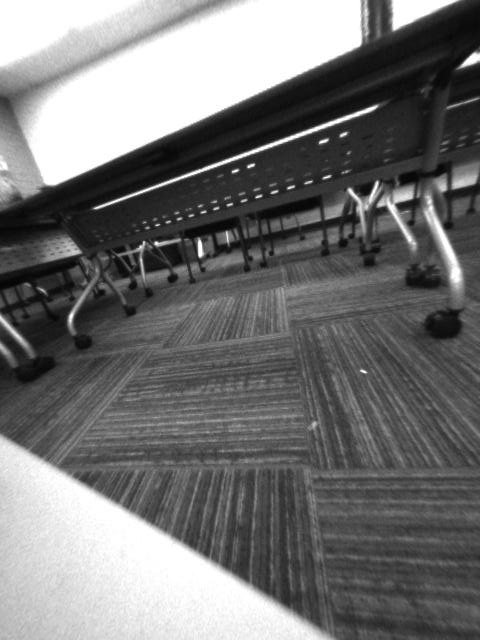can: (358, 1, 394, 44)
